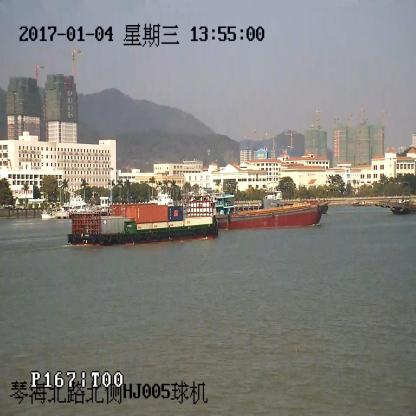Bulk Carrier: (217, 201, 329, 228)
